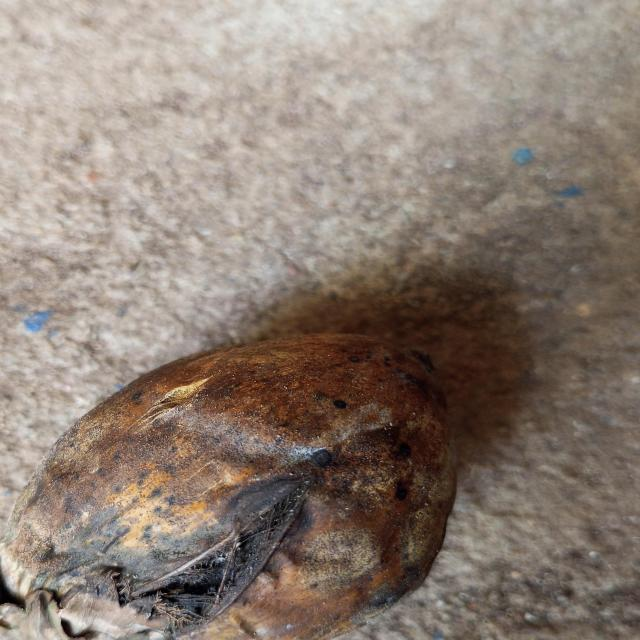damaged: (0, 327, 474, 640)
